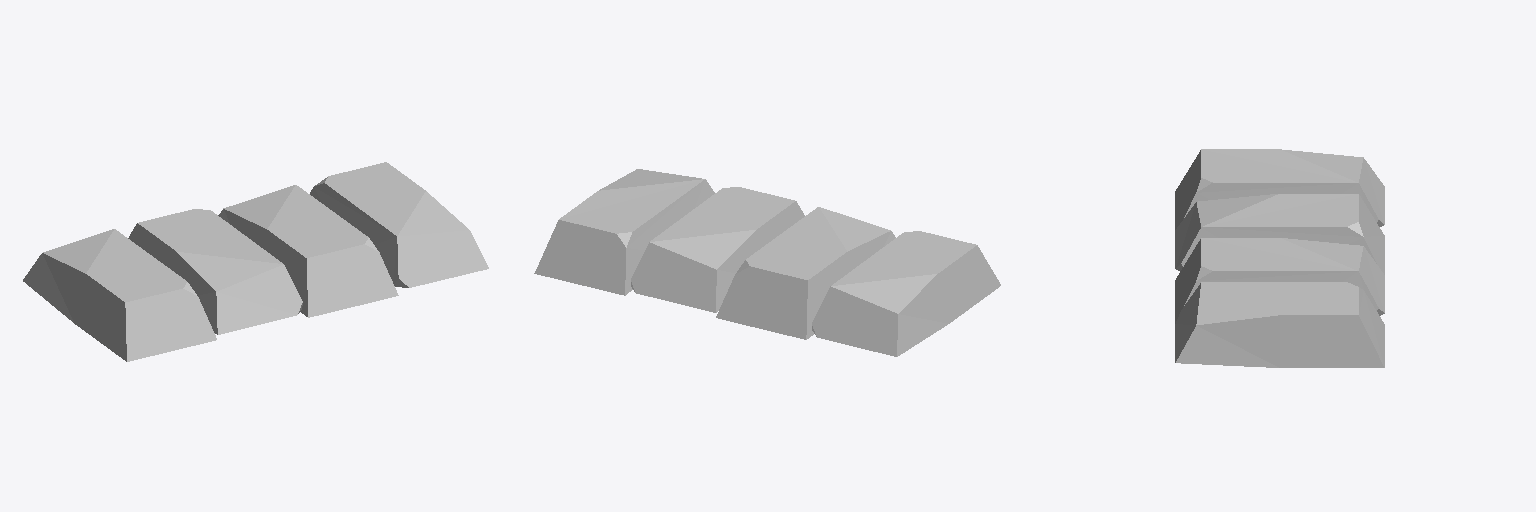
Rendered from Gold-19.obj.
3 views of the same model, side by side, from view 1: azimuth 30°, elevation 25°; view 2: azimuth 150°, elevation 25°; view 3: azimuth 270°, elevation 25° (orthographic).
Visible parts, largest first — view 1: Gold_19; view 2: Gold_19; view 3: Gold_19.
Part boxes in pixels (left/top/right/bottom): Gold_19: left=23, top=162, right=488, bottom=361; Gold_19: left=534, top=169, right=1000, bottom=356; Gold_19: left=1175, top=149, right=1384, bottom=367.
Size of the model in its own units: 0.3 by 0.0375 by 0.1501.